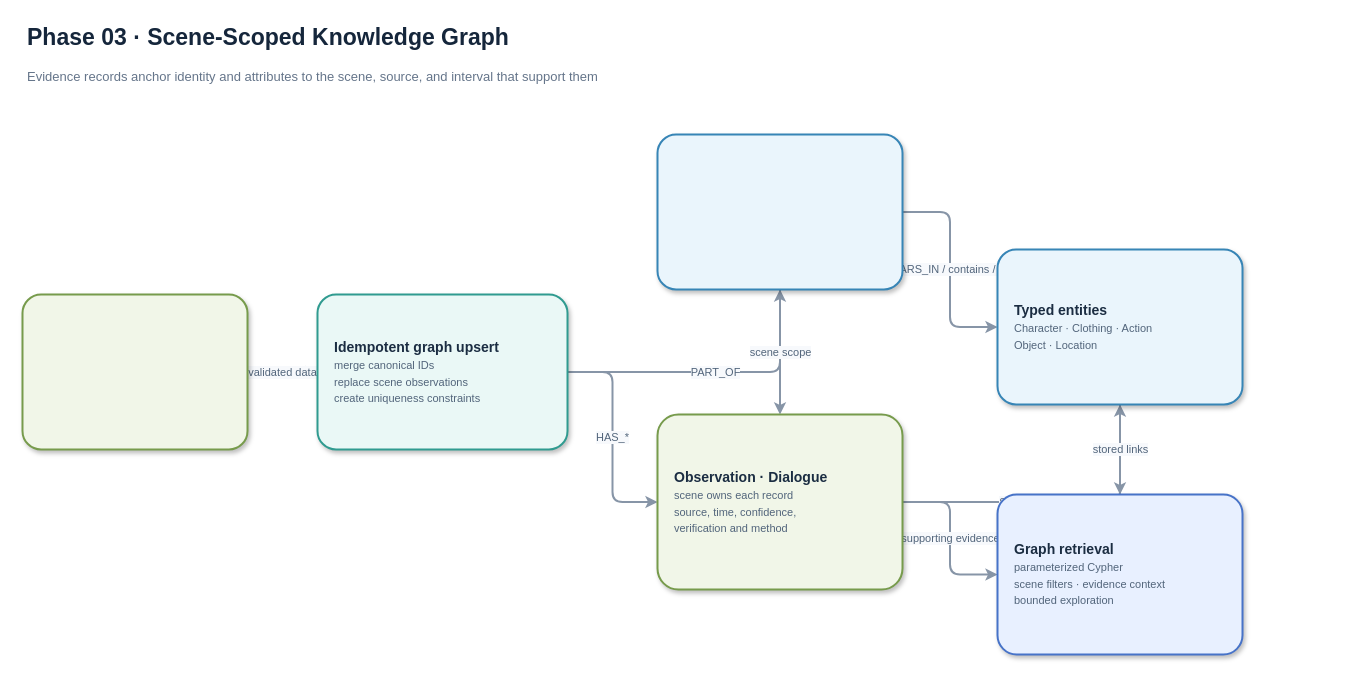
Image size: 1366x679. Some labels were removed from this diagram. The centre of each missing label's shape, as x and y in pixels:
Validated scene records stable IDs · provenance scene-local intervals: [135,373]
Video · Episode · Scene direct scene-to-video link optional episode hierarchy: [780,213]
